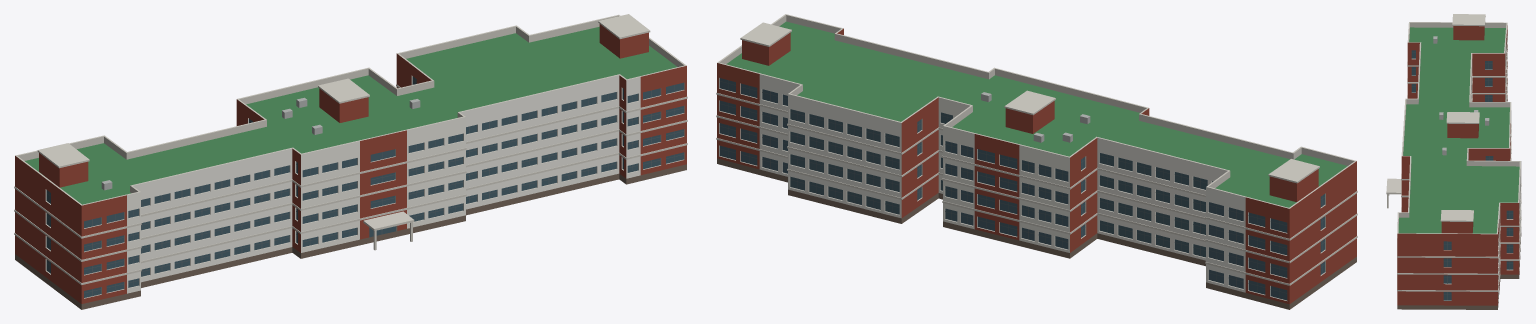
The picture shows the model from 3 angles, left to right: view 1: azimuth 30°, elevation 25°; view 2: azimuth 150°, elevation 25°; view 3: azimuth 270°, elevation 25°; orthographic projection. The views are drawn at different scales.
Visible parts, largest first — view 1: wing1__wall-plaster, wing1__roof, wing1__brick, wing1__trim-concrete, wing1__glass, wing1__base-stone, wing1__frame, wing1__canopy-concrete, wing1__equipment; view 2: wing1__roof, wing1__wall-plaster, wing1__brick, wing1__glass, wing1__trim-concrete, wing1__base-stone, wing1__frame; view 3: wing1__roof, wing1__brick, wing1__trim-concrete, wing1__glass, wing1__base-stone, wing1__wall-plaster, wing1__canopy-concrete, wing1__frame, wing1__equipment.
Boxes of the visible parts, box(x1,y1,x2,y2) form: wing1__wall-plaster: box(127, 75, 640, 293); wing1__roof: box(25, 26, 677, 204); wing1__brick: box(15, 24, 686, 303); wing1__trim-concrete: box(14, 14, 687, 298); wing1__glass: box(46, 76, 683, 297); wing1__base-stone: box(15, 164, 686, 309); wing1__frame: box(46, 78, 683, 296); wing1__canopy-concrete: box(363, 211, 414, 250); wing1__equipment: box(101, 97, 420, 190); wing1__roof: box(726, 21, 1347, 207); wing1__wall-plaster: box(759, 74, 1245, 292); wing1__brick: box(717, 28, 1356, 304); wing1__glass: box(719, 78, 1324, 300); wing1__trim-concrete: box(716, 14, 1357, 300); wing1__base-stone: box(717, 158, 1356, 309); wing1__frame: box(720, 80, 1324, 298); wing1__roof: box(1398, 27, 1519, 233); wing1__brick: box(1397, 25, 1519, 305); wing1__trim-concrete: box(1397, 14, 1521, 301); wing1__glass: box(1411, 50, 1513, 300); wing1__base-stone: box(1397, 97, 1521, 309); wing1__wall-plaster: box(1468, 42, 1521, 285); wing1__canopy-concrete: box(1386, 178, 1401, 208); wing1__frame: box(1412, 52, 1512, 300); wing1__equipment: box(1433, 36, 1489, 155).
Bounding box in the file's own units: 97.22 × 18.45 × 26.12.
